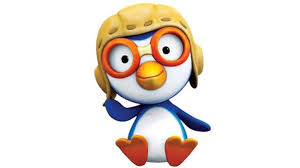Pororo: (88, 1, 213, 164)
